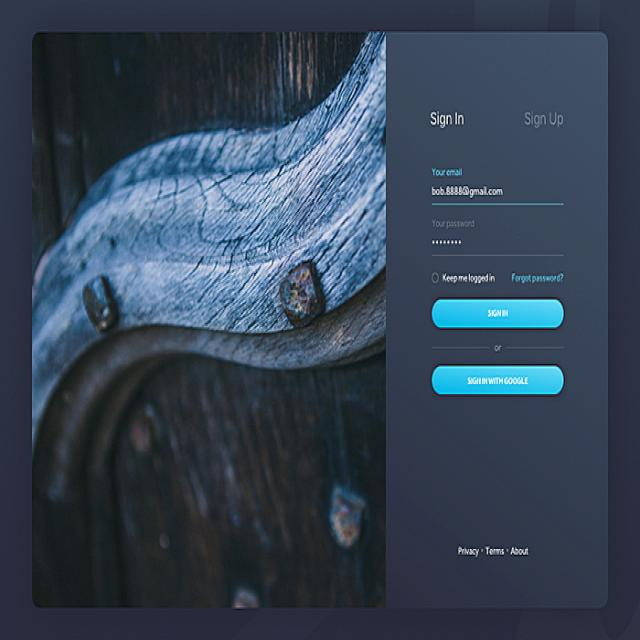Button: (432, 362, 566, 403), (430, 296, 567, 332)
Container: (28, 26, 613, 620)
Input-field: (428, 154, 567, 212), (426, 213, 570, 264)
Radio: (429, 268, 499, 290)
